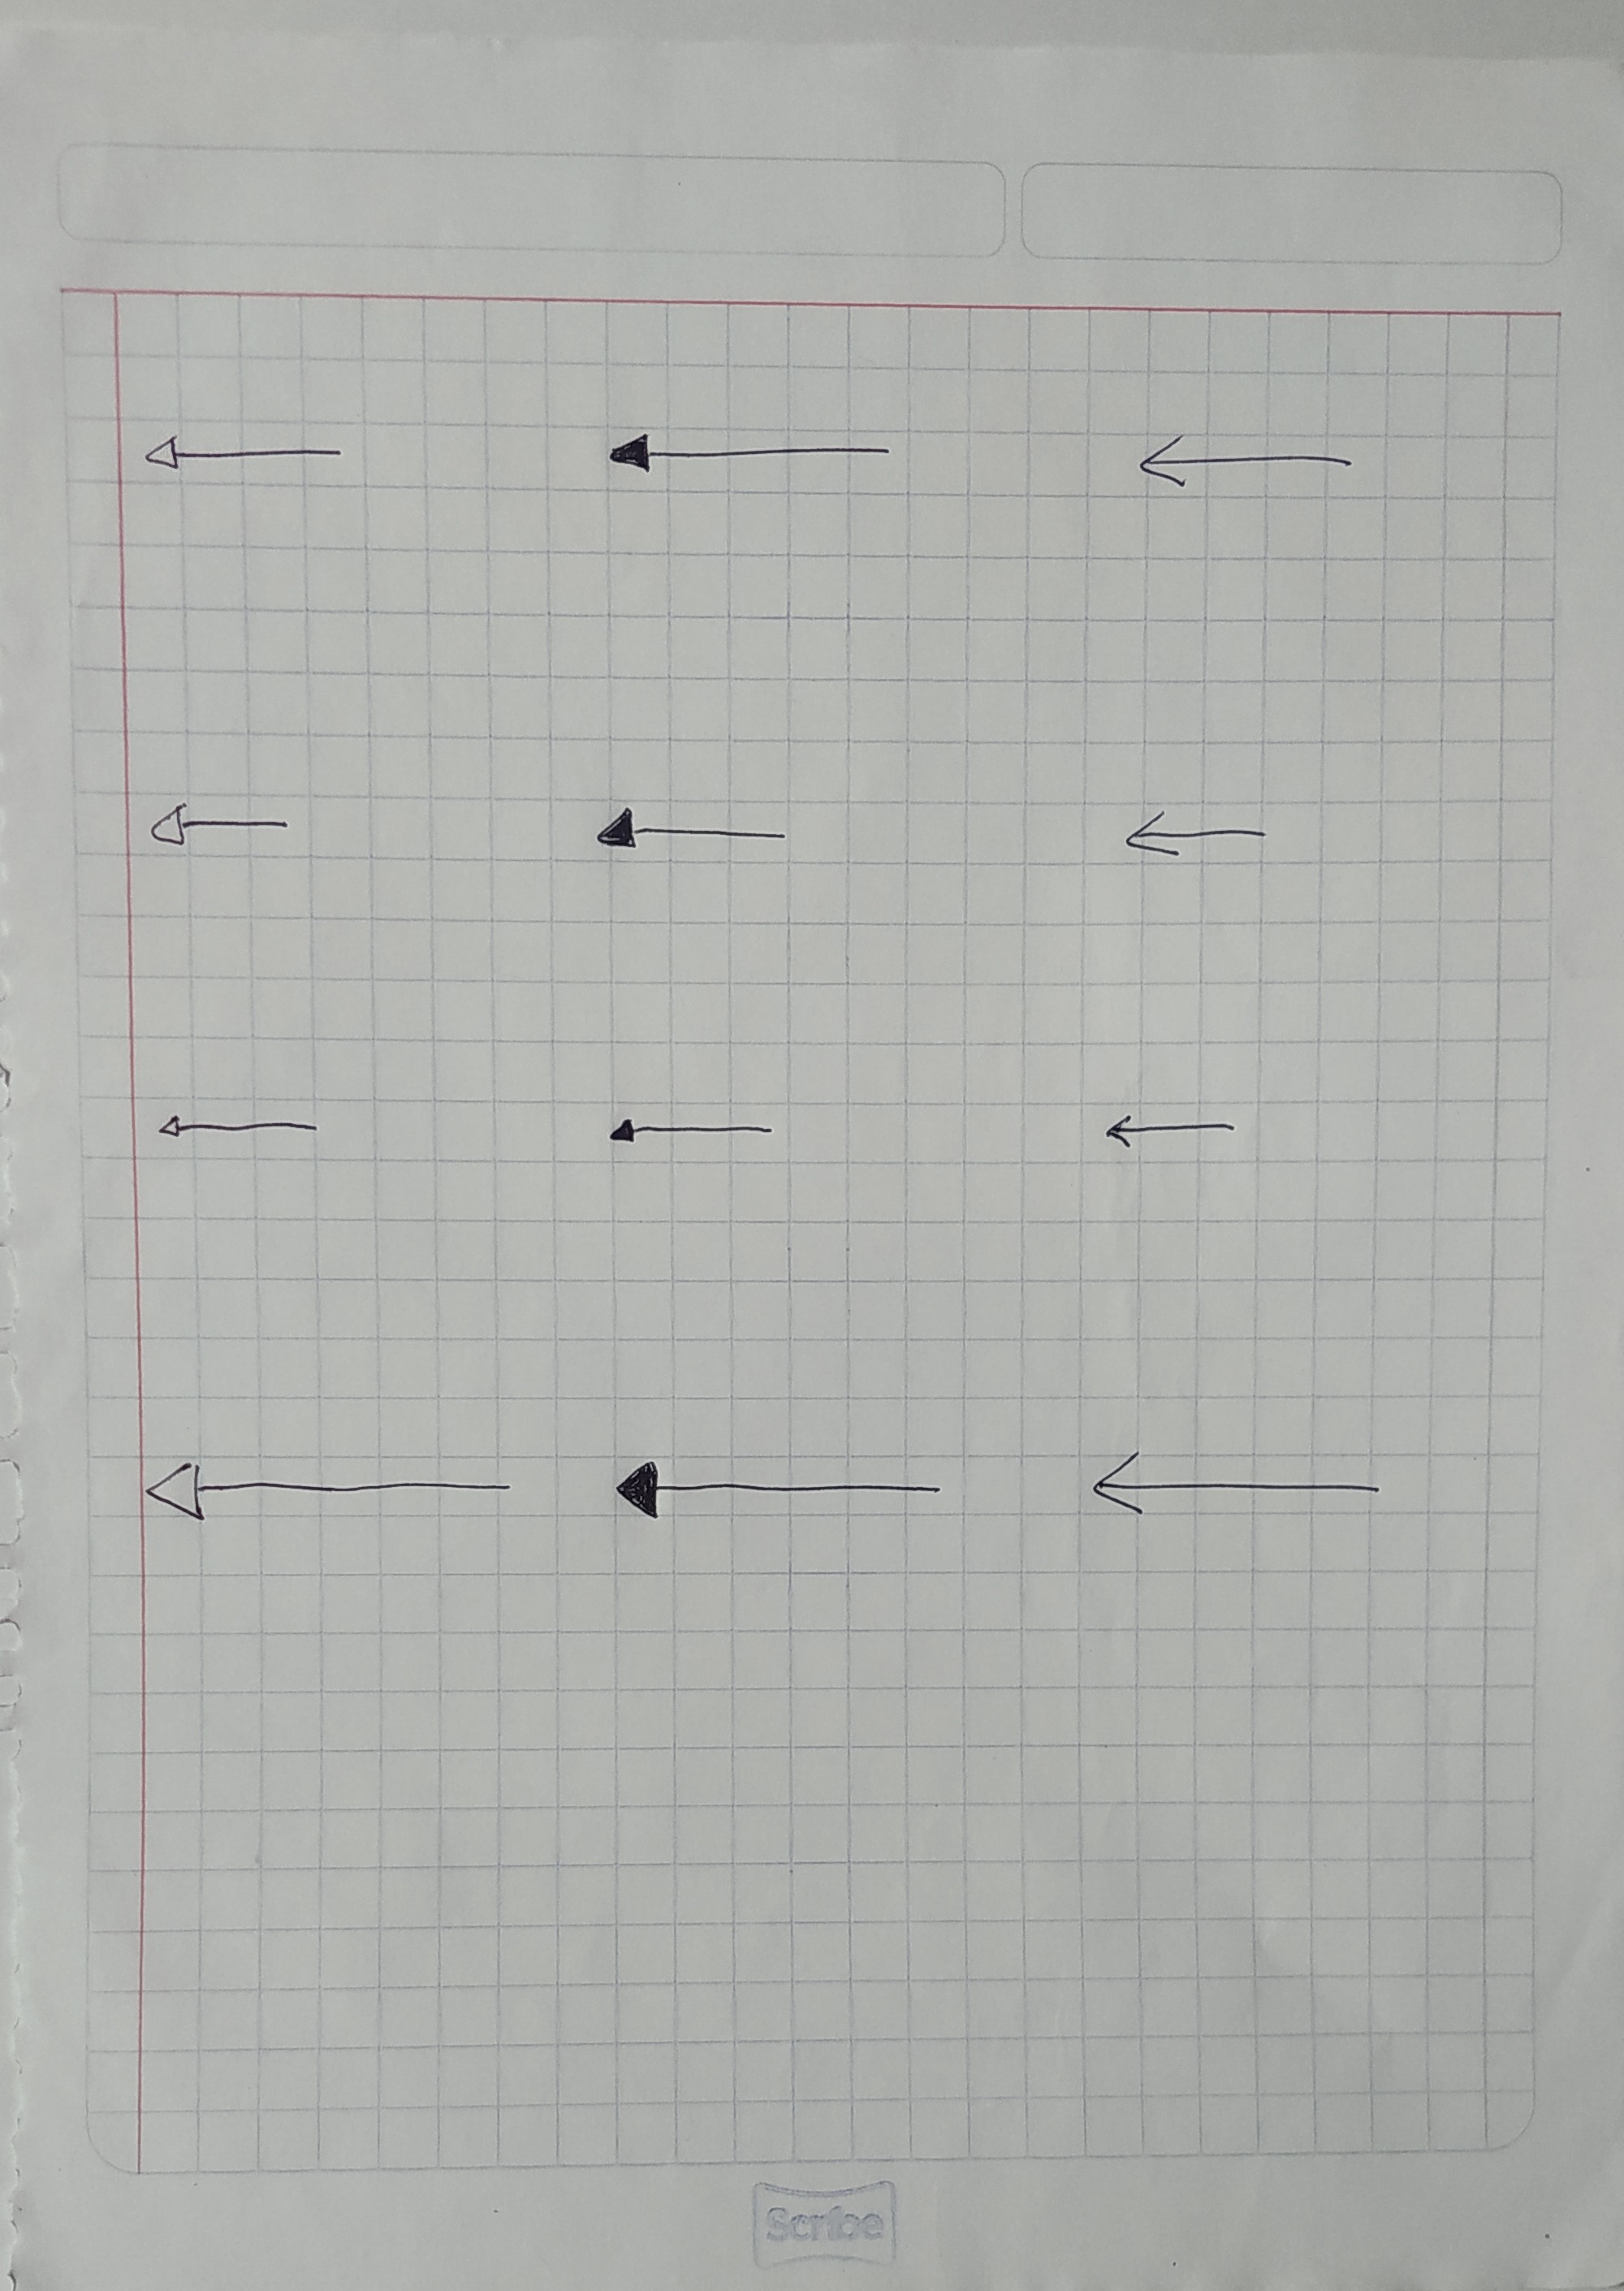arrow_line_left: (139, 1449, 513, 1530), (1084, 1444, 1388, 1527), (608, 1456, 958, 1525), (1130, 420, 1359, 506), (598, 427, 898, 488), (134, 420, 355, 488), (584, 801, 801, 868), (137, 787, 297, 854), (1116, 799, 1271, 868), (601, 1112, 784, 1156), (146, 1105, 320, 1151), (1097, 1114, 1236, 1153)
